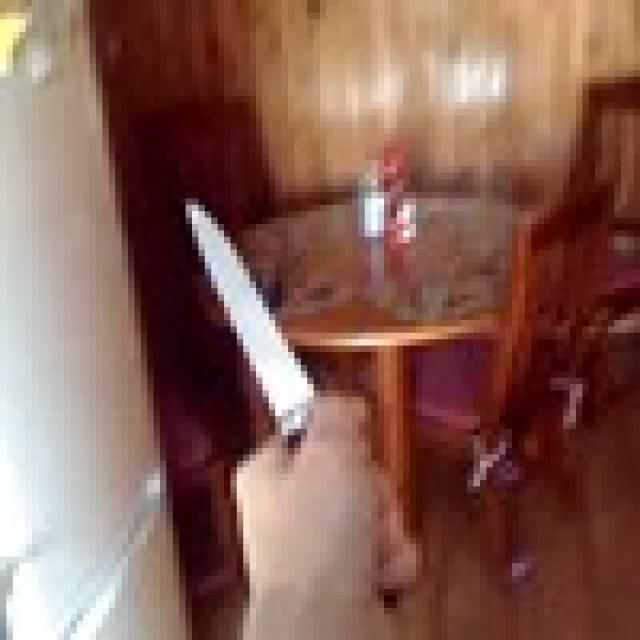Knife: (173, 192, 403, 602)
